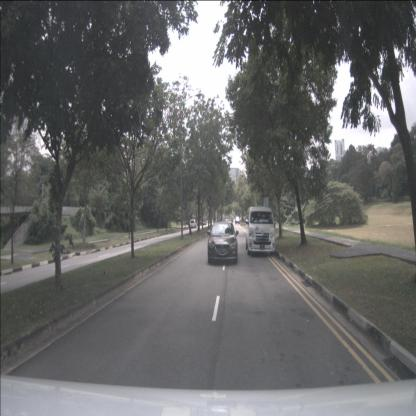vehicle-car: (245, 206, 275, 256), (208, 221, 238, 264), (190, 219, 197, 229), (235, 216, 240, 224)
